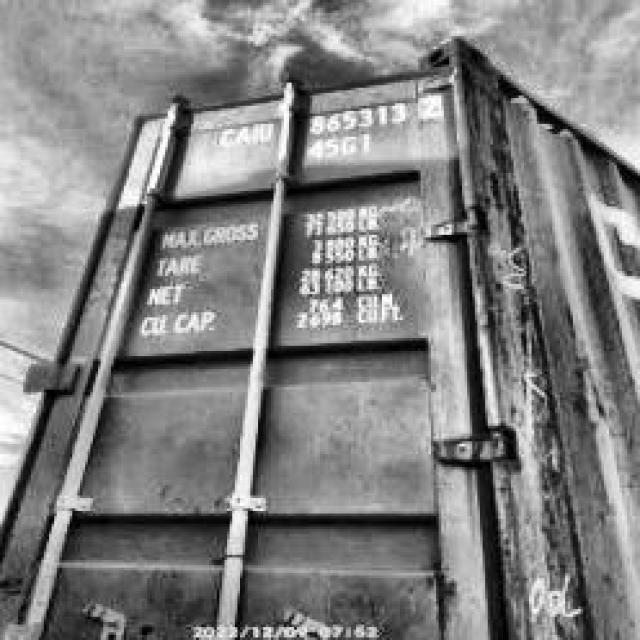ISO: (298, 126, 377, 166)
container_number: (206, 84, 457, 147)
